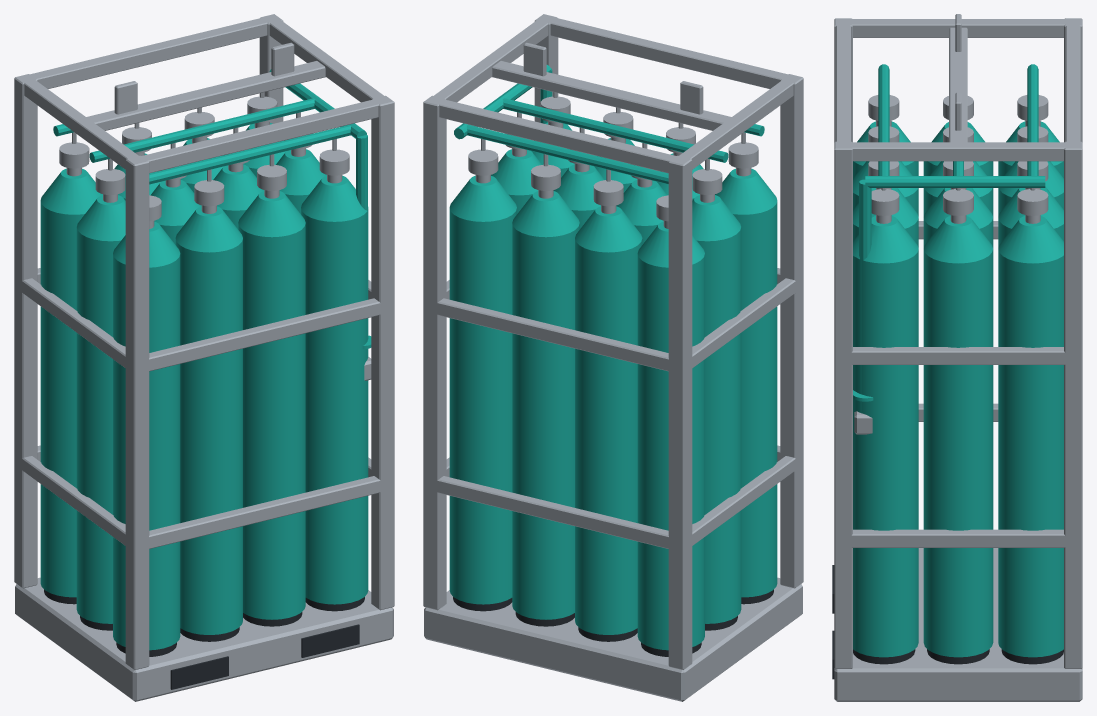
File: cylinder-bundle.glb
3 views of the same model, side by side, from view 1: azimuth 30°, elevation 25°; view 2: azimuth 150°, elevation 25°; view 3: azimuth 270°, elevation 25° (orthographic). The views are drawn at different scales.
Parts seen in each view (by area): view 1: cylinder-bundle; view 2: cylinder-bundle; view 3: cylinder-bundle.
Boxes of the visible parts, x1,y1,x2,y2 form: cylinder-bundle: (14, 14, 394, 701); cylinder-bundle: (423, 14, 803, 701); cylinder-bundle: (832, 14, 1082, 701).
Bounding box in the file's own units: 1 × 2.06 × 0.806.
